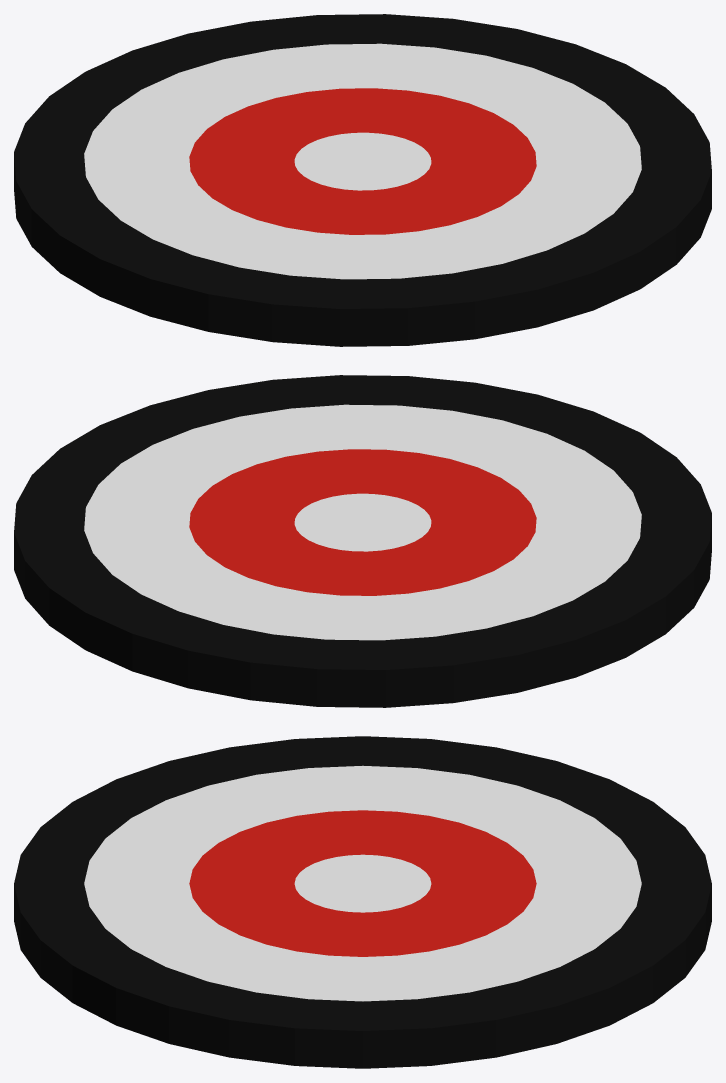
File: Target.glb
3 renders of one model, top to bottom at view 1: azimuth 30°, elevation 25°; view 2: azimuth 150°, elevation 25°; view 3: azimuth 270°, elevation 25°, orthographic.
Parts seen in each view (by area): view 1: Target; view 2: Target; view 3: Target.
Boxes of the visible parts, box(x1,y1,x2,y2) form: Target: box(14, 14, 711, 346); Target: box(14, 375, 711, 707); Target: box(14, 736, 711, 1068).
Size of the model in its own units: 2 by 0.1191 by 2.
